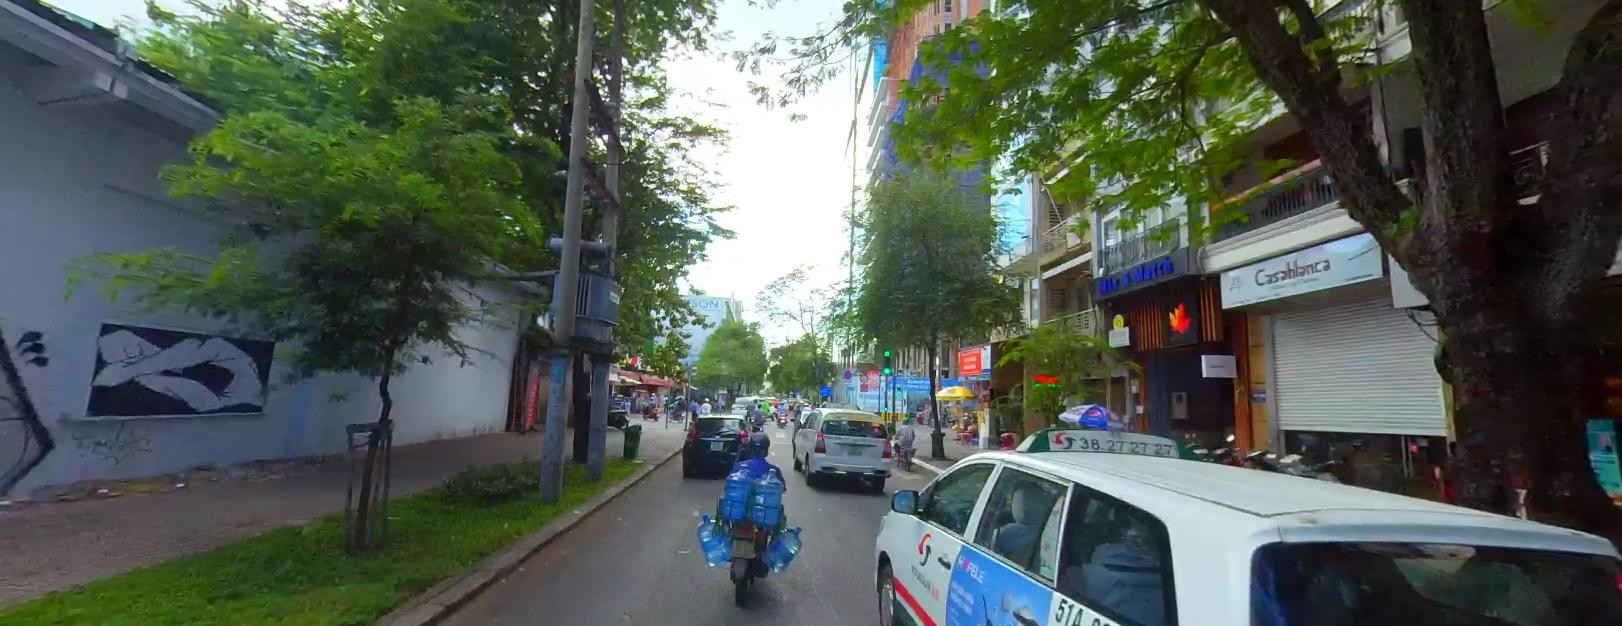Cam con lai: (860, 372, 868, 381)
Cam dung va do: (842, 369, 850, 378)
